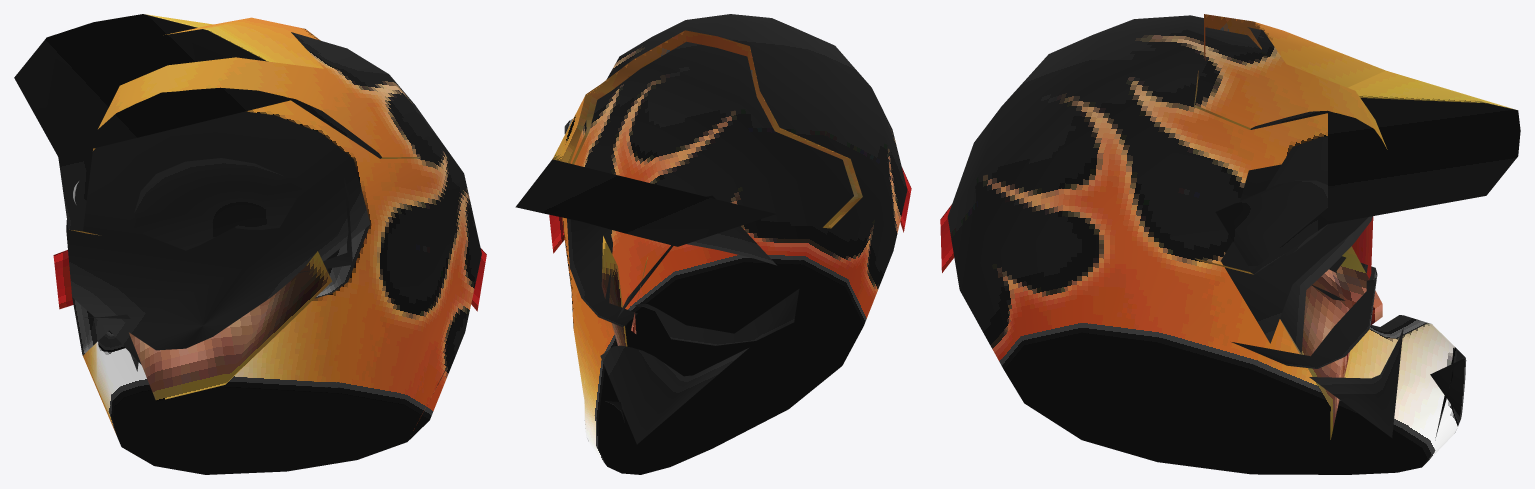
The model's file is ps2_save-icons_mxvsatvuntamed.glb.
The picture shows the model from 3 angles, left to right: view 1: azimuth 30°, elevation 25°; view 2: azimuth 150°, elevation 25°; view 3: azimuth 270°, elevation 25°; orthographic projection. The views are drawn at different scales.
Parts seen in each view (by area): view 1: iconnorm.ico; view 2: iconnorm.ico; view 3: iconnorm.ico.
Boxes of the visible parts, x1,y1,x2,y2 form: iconnorm.ico: (14,14,486,474); iconnorm.ico: (515,14,911,474); iconnorm.ico: (940,14,1520,474).
Size of the model in its own units: 2.72 by 3.24 by 3.98.
1 material, 1 textured.
